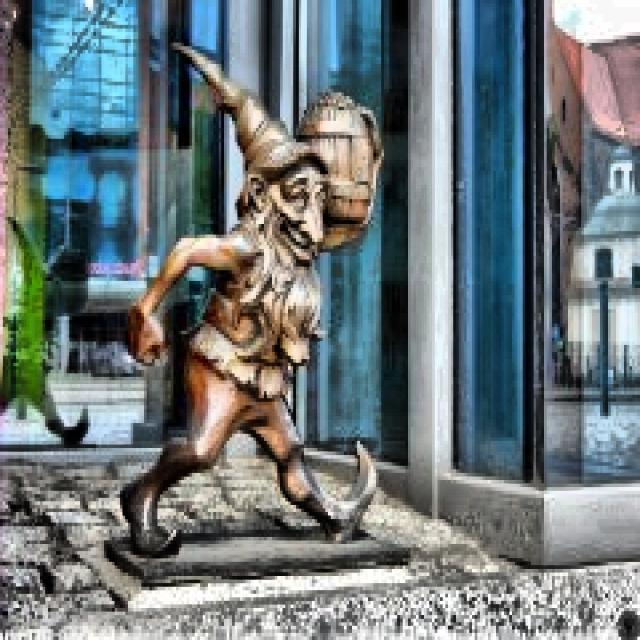Leprykonus: (105, 24, 409, 567)
